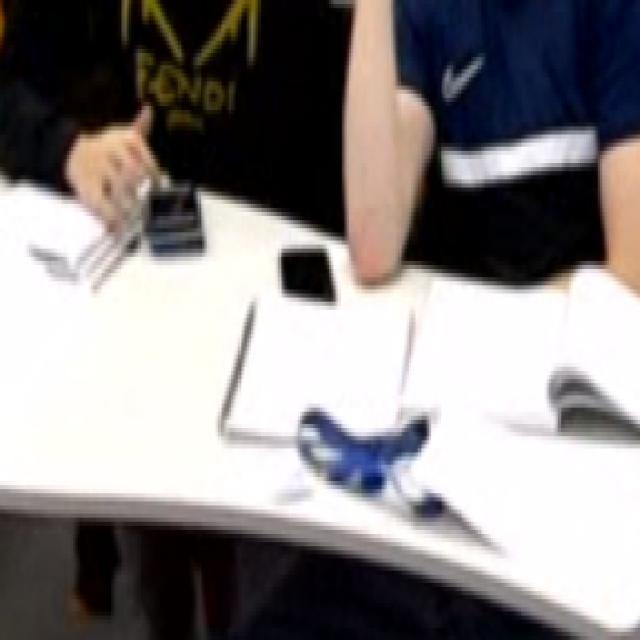phone: (269, 240, 343, 323), (139, 181, 208, 267)
